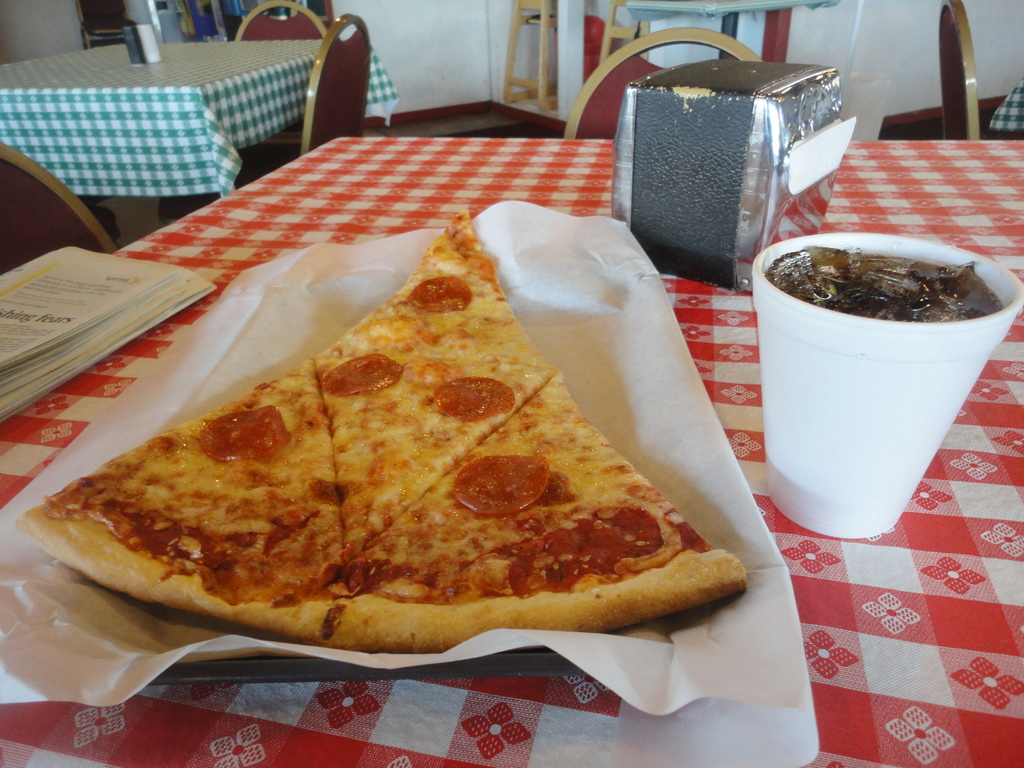Pizza: (49, 197, 745, 667)
